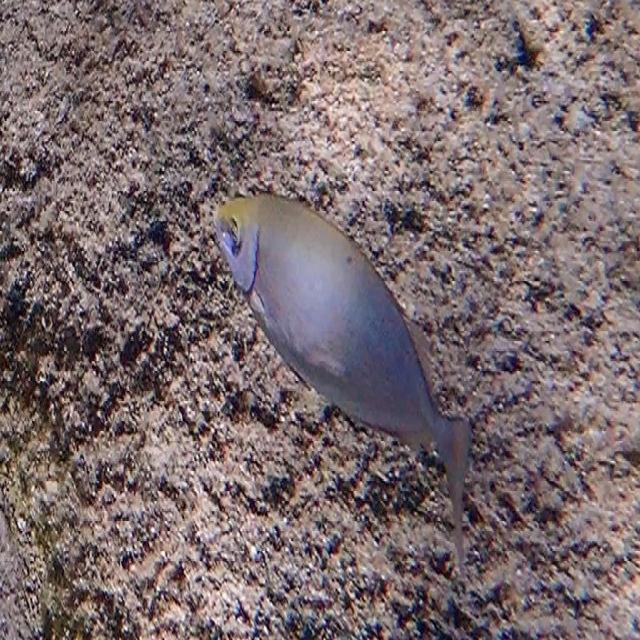Sokar Baligi: (192, 167, 488, 598)
